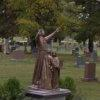Statue: (16, 19, 63, 93)
